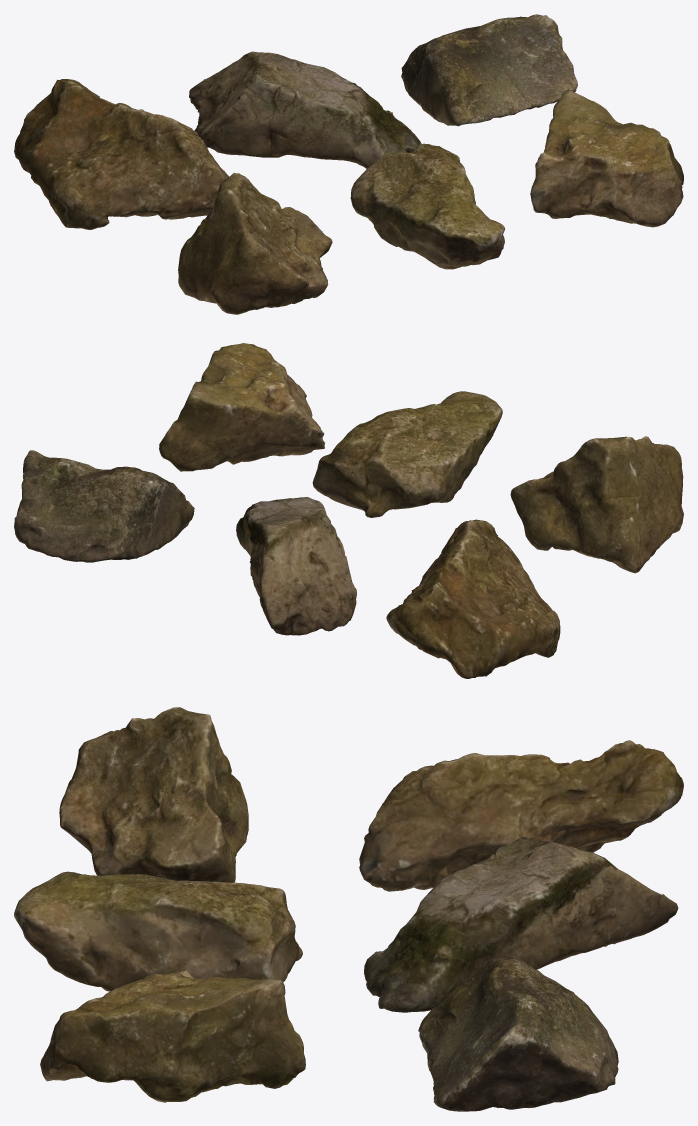
The model's file is rock_moss_set_01.glb.
The picture shows the model from 3 angles, top to bottom: view 1: azimuth 30°, elevation 25°; view 2: azimuth 150°, elevation 25°; view 3: azimuth 270°, elevation 25°; orthographic projection. The views are drawn at different scales.
Parts seen in each view (by area): view 1: rock_moss_set_01_rock01; view 2: rock_moss_set_01_rock01; view 3: rock_moss_set_01_rock01.
Part boxes in pixels (left/top/right/bottom): rock_moss_set_01_rock01: left=14, top=14, right=683, bottom=314; rock_moss_set_01_rock01: left=14, top=343, right=683, bottom=678; rock_moss_set_01_rock01: left=14, top=707, right=683, bottom=1111.
Size of the model in its own units: 8 by 1.76 by 6.95.
1 material, 1 textured.
